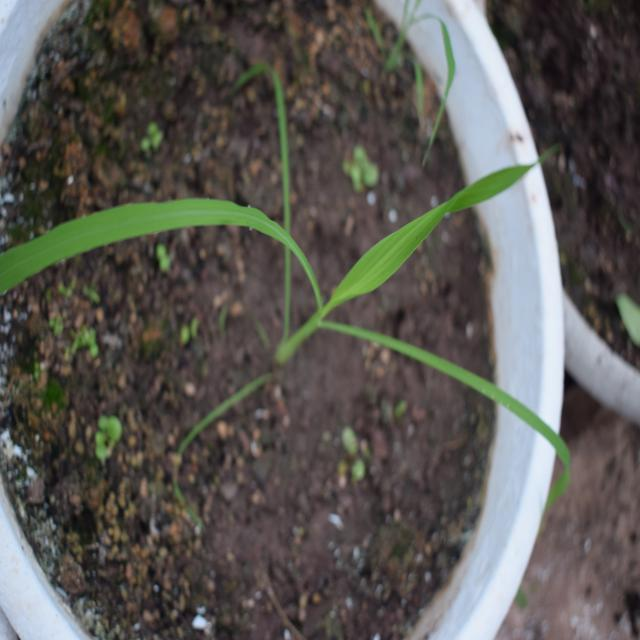barnyard_grass: (10, 147, 588, 478)
